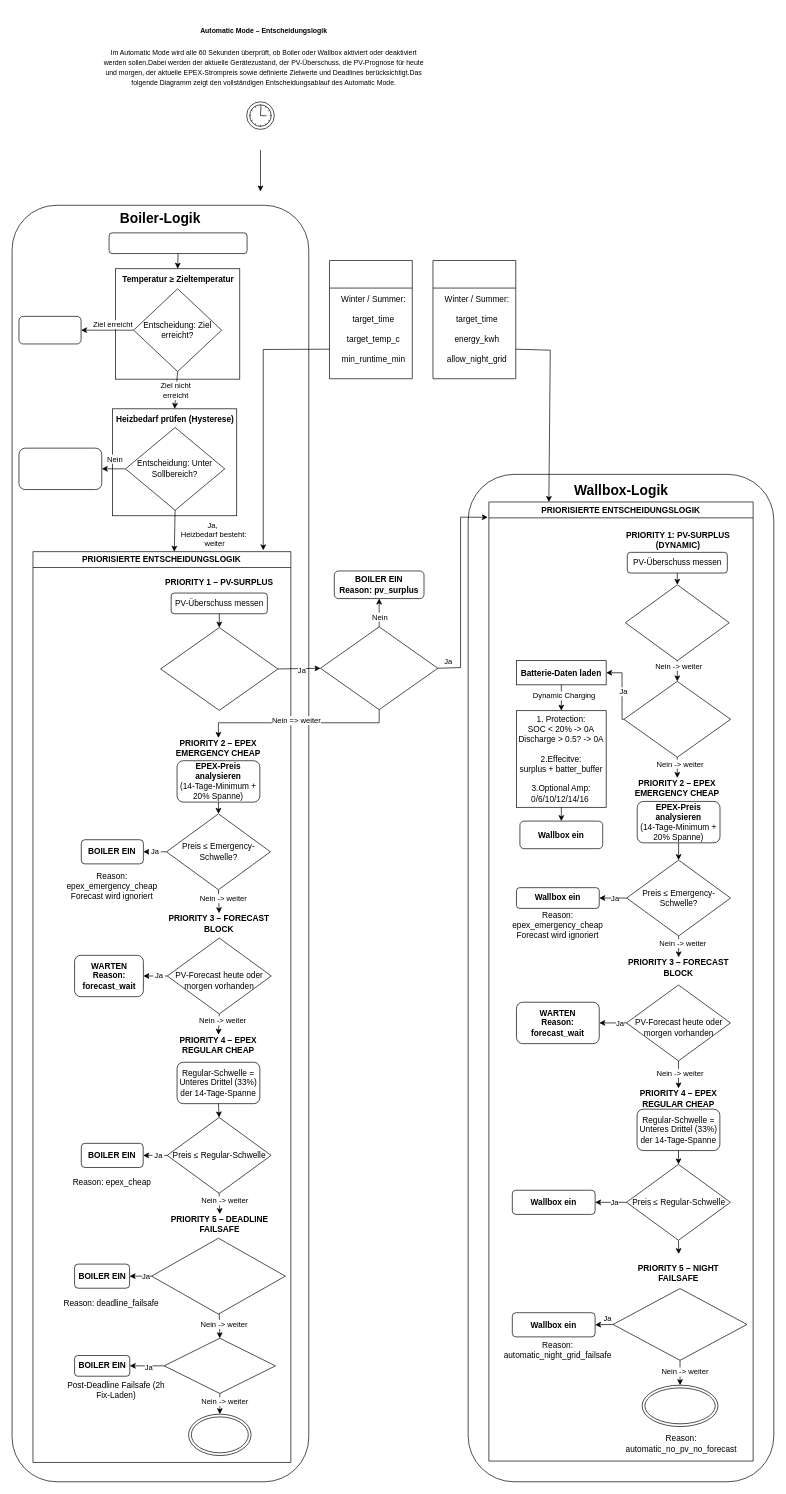
This 786x1494 diagram has some shape labels left out. Each missing label, with the box of its shape:
Aktuelle Boiler-Temperatur lesen: (108, 232, 247, 254)
Automatic-config (Boiler): (329, 260, 412, 379)
Automatic-config (Wallbox): (432, 260, 516, 379)
Berechnung ergibt ≥ 6A (mind. 1.4 kW)?: (623, 681, 731, 757)
BOILER AUS: (18, 316, 81, 344)
Dealine abgelaufen: (163, 1338, 275, 1393)
Hysterese-Bereich Status beibehalten: (18, 447, 102, 490)
PV-Überschuss > 0 kW: (625, 584, 729, 661)
PV-Überschuss > 1.5 kW && SOC ≥ 12%: (160, 627, 278, 710)
PV-Überschuss > ~2 kW (Wenn Boiler aktiv): (320, 626, 438, 710)
Scheduler Tick (alle 60 Sekunden): (246, 101, 274, 129)
Verblei. Zeit ≤ Mindestlaufzeit (90 min W. / 60 min S.): (151, 1238, 285, 1314)
Verbleibende Zeit ≤ 2h && allow_night = true: (612, 1288, 747, 1360)
Wallbox aus: (641, 1384, 718, 1427)
warten: (188, 1413, 251, 1456)
